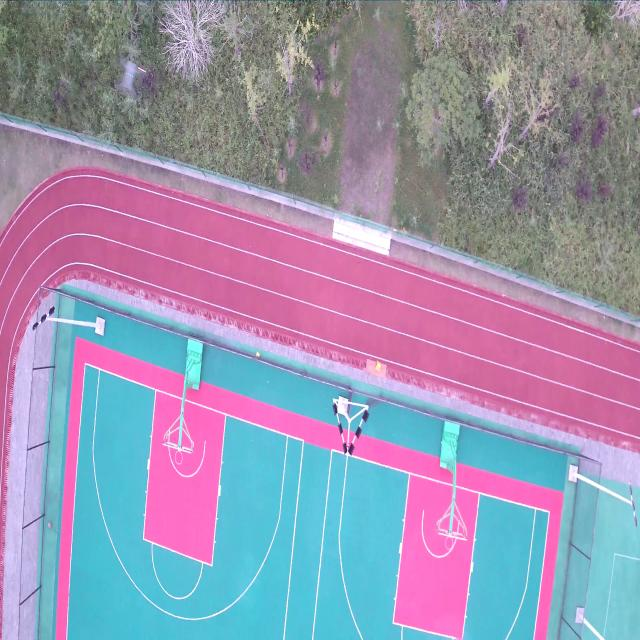UAV: (114, 53, 146, 96)
